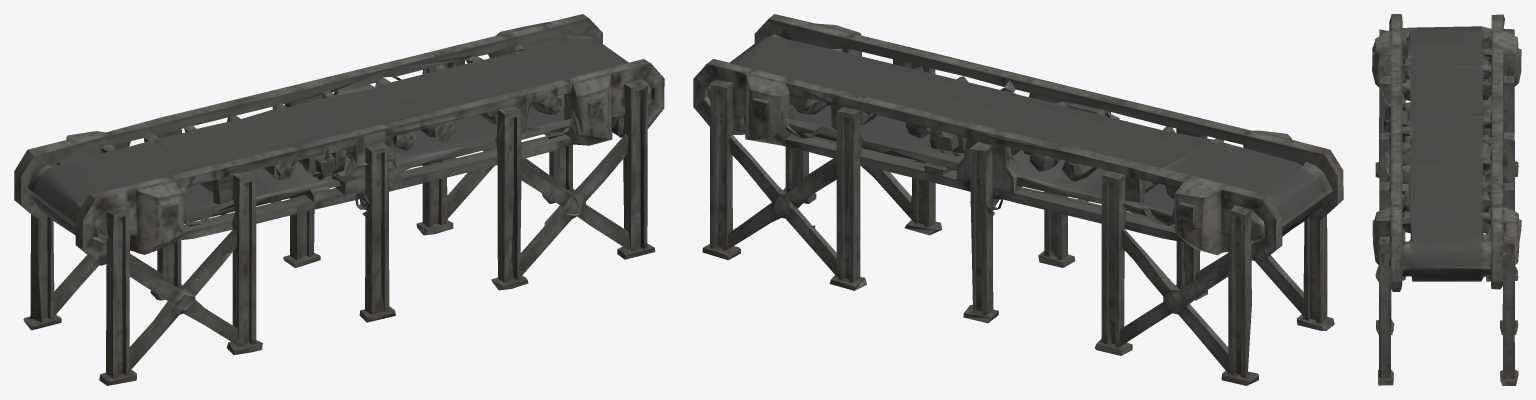
File: struct.conveyor.segment.glb
3 views of the same model, side by side, from view 1: azimuth 30°, elevation 25°; view 2: azimuth 150°, elevation 25°; view 3: azimuth 270°, elevation 25° (orthographic). The views are drawn at different scales.
Visible parts, largest first — view 1: body; view 2: body; view 3: body.
Boxes of the visible parts, x1,y1,x2,y2 form: body: [14, 14, 664, 385]; body: [693, 14, 1343, 385]; body: [1372, 14, 1521, 385].
Bounding box in the file's own units: 1.5 × 0.4496 × 0.4053.
1 material, 1 textured.
